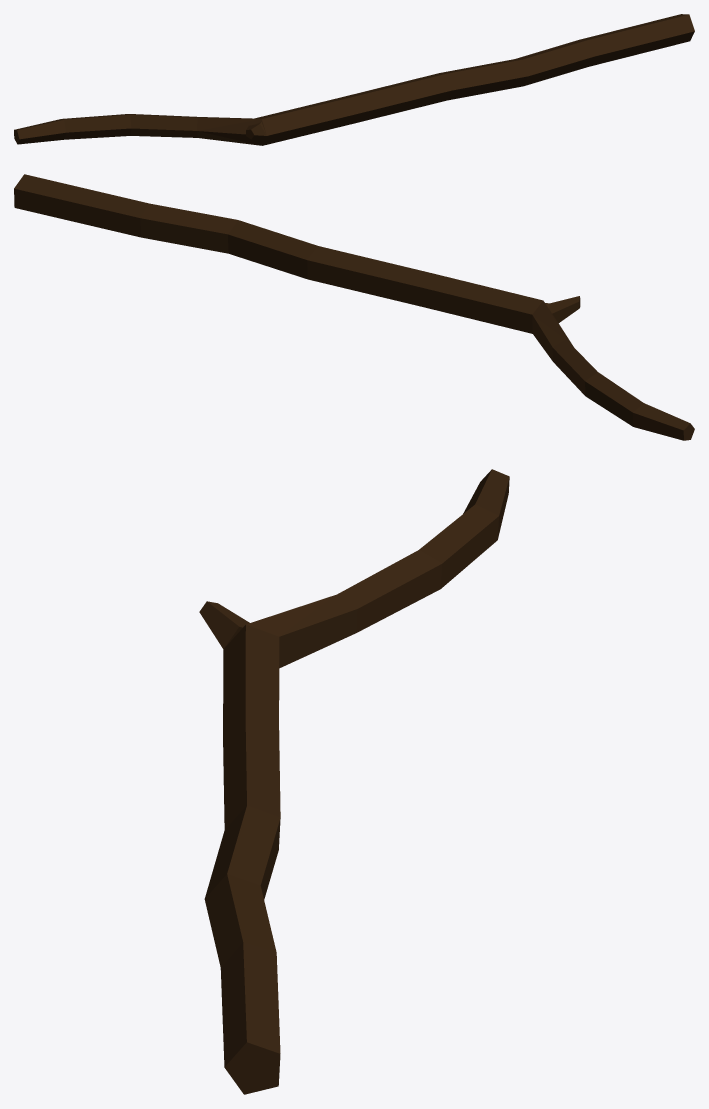
The model's file is Galaz_5.fbx.
3 renders of one model, top to bottom at view 1: azimuth 30°, elevation 25°; view 2: azimuth 150°, elevation 25°; view 3: azimuth 270°, elevation 25°, orthographic. The views are drawn at different scales.
Visible parts, largest first — view 1: Galaz_5_LOD0; view 2: Galaz_5_LOD0; view 3: Galaz_5_LOD0.
Boxes of the visible parts, left/top/right/bottom form: Galaz_5_LOD0: left=14, top=14, right=694, bottom=145; Galaz_5_LOD0: left=14, top=174, right=694, bottom=440; Galaz_5_LOD0: left=199, top=469, right=509, bottom=1094.
Size of what is drawn, in the model's own units: 1926 by 89.24 by 423.
